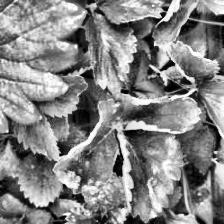Powdery Mildew Leaf: (53, 99, 123, 195), (117, 128, 185, 224), (106, 92, 204, 134), (80, 171, 130, 224), (167, 40, 220, 88), (152, 0, 200, 48), (53, 206, 104, 224)
